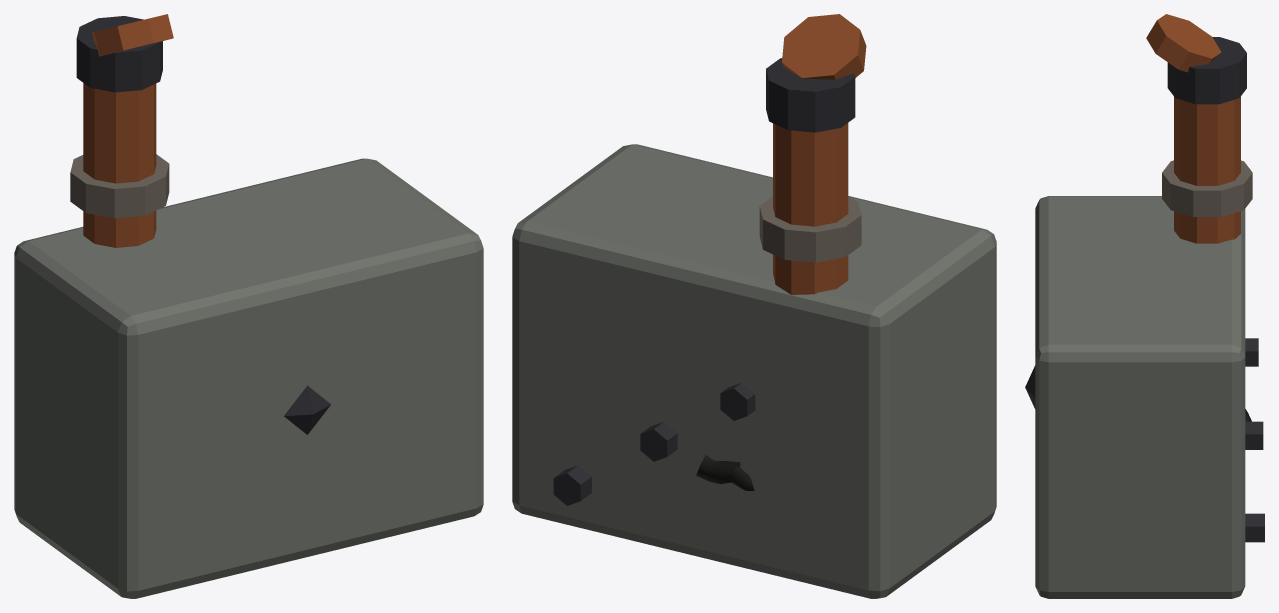
The model's file is mo_overclock.glb.
3 renders of one model, left to right at view 1: azimuth 30°, elevation 25°; view 2: azimuth 150°, elevation 25°; view 3: azimuth 270°, elevation 25°, orthographic. The views are drawn at different scales.
Parts seen in each view (by area): view 1: mo_overclock; view 2: mo_overclock; view 3: mo_overclock.
Boxes of the visible parts, left/top/right/bottom form: mo_overclock: left=14, top=14, right=483, bottom=598; mo_overclock: left=512, top=14, right=996, bottom=598; mo_overclock: left=1025, top=14, right=1264, bottom=598.
Size of the model in its own units: 0.1451 by 0.1968 by 0.0922.
